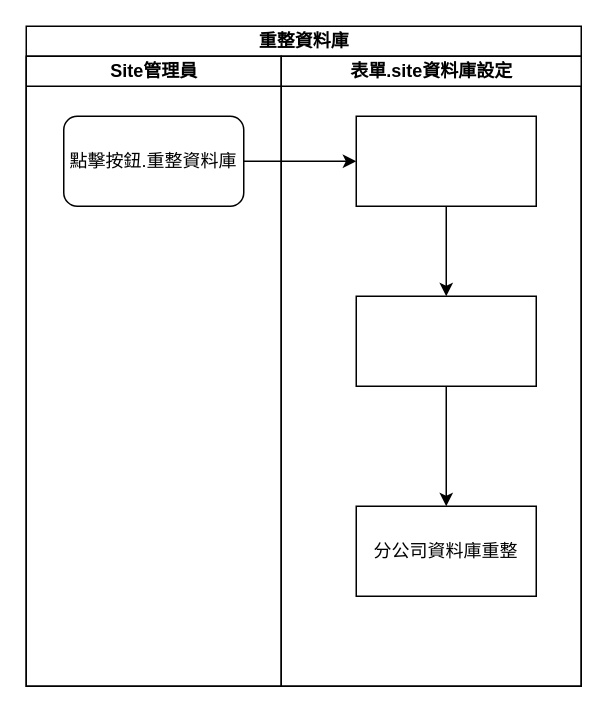
This 608x713 diagram has some shape labels left out. The shapes that lost their labels are listed below. From the top down, each one's centre as x and y in pixels, then its label:
(445,160): Site資料庫重整
(445,340): 共用資料庫重整
